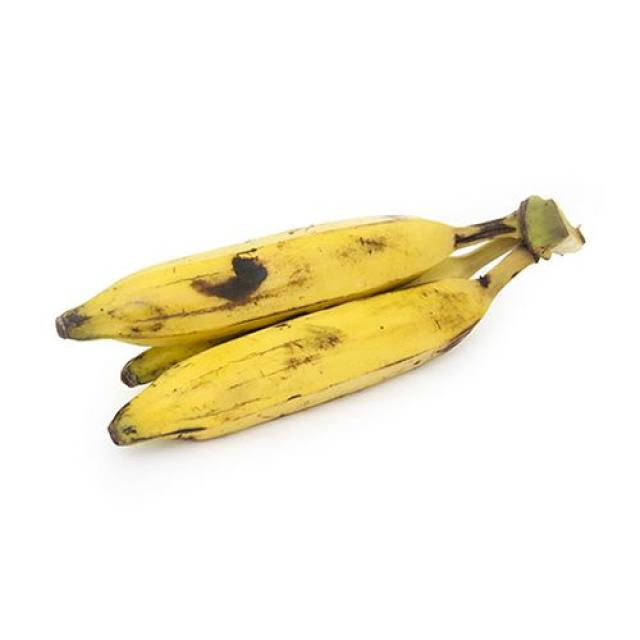banana: (52, 193, 587, 452)
